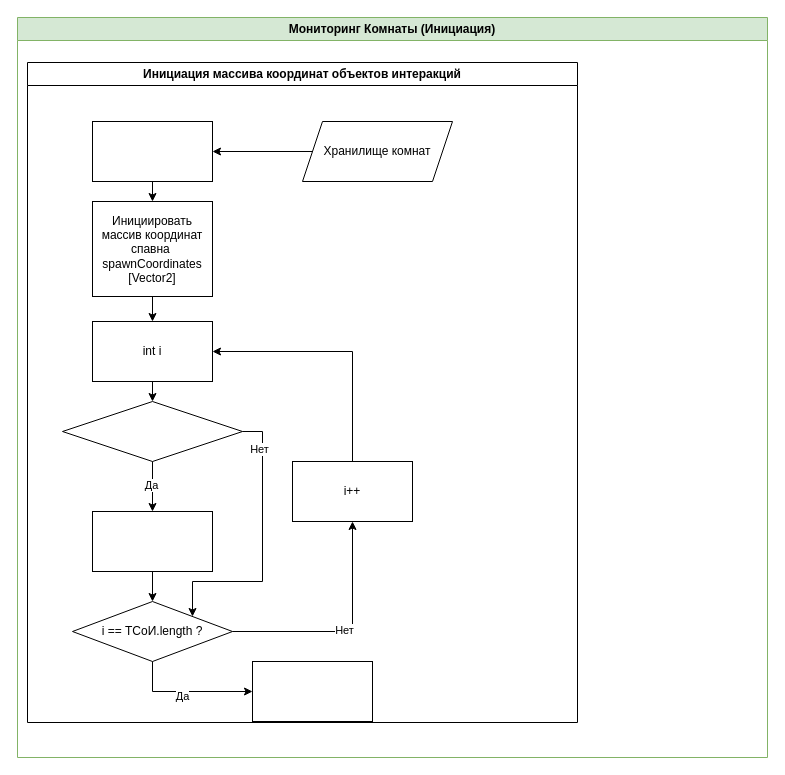
The diagram is 785 pixels wide and 775 high, and some of its shapes have lost their labels. Each missing label, with the box of its shape:
Break: (252, 660, 372, 722)
Добавить в spawnCoordinates ТСоИ.i.coordinates: (92, 510, 212, 572)
Запросить Таблицу с объектами интеракций (ТСоИ): (92, 120, 212, 182)
ТСоИ.i.type == Spawner?: (62, 400, 242, 462)
